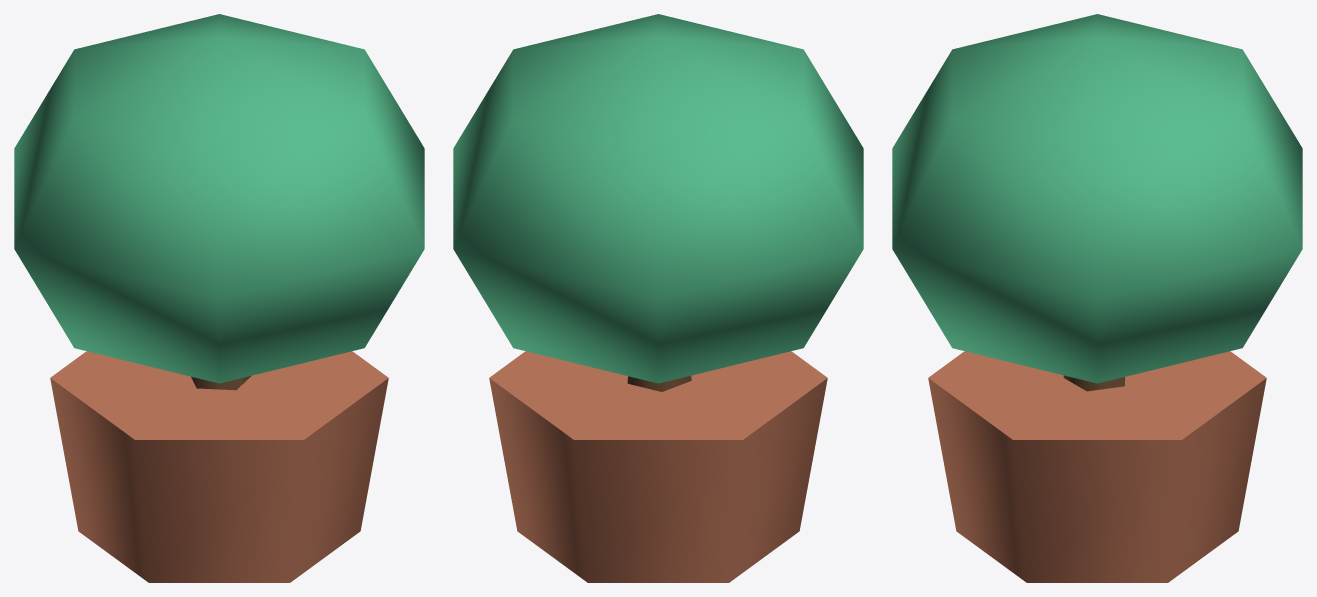
The model's file is plant.glb.
3 views of the same model, side by side, from view 1: azimuth 30°, elevation 25°; view 2: azimuth 150°, elevation 25°; view 3: azimuth 270°, elevation 25° (orthographic).
Visible parts, largest first — view 1: Plant; view 2: Plant; view 3: Plant.
Part boxes in pixels (bbox=[...]): Plant: bbox=[14, 14, 424, 582]; Plant: bbox=[453, 14, 863, 582]; Plant: bbox=[892, 14, 1302, 582].
Bounding box in the file's own units: 0.336 × 0.386 × 0.291.
